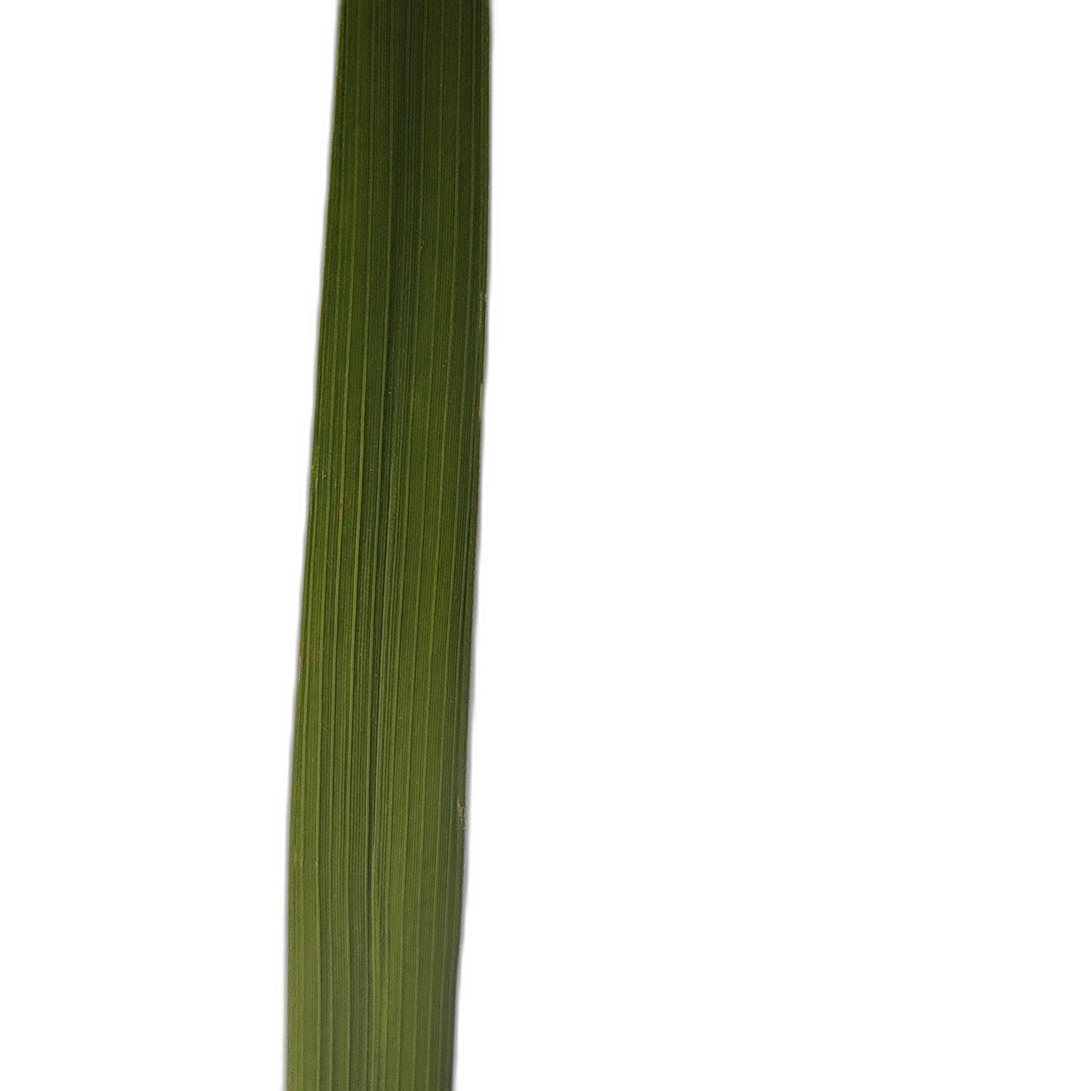Healthy: (287, 0, 489, 1090)
